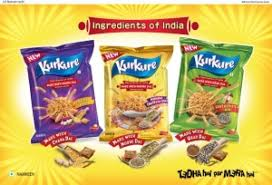kurkure: (37, 52, 84, 77), (111, 55, 161, 77), (189, 56, 238, 69)
plastic: (14, 35, 255, 148)
wrapper: (17, 44, 102, 139), (177, 34, 249, 144), (101, 41, 174, 147)
